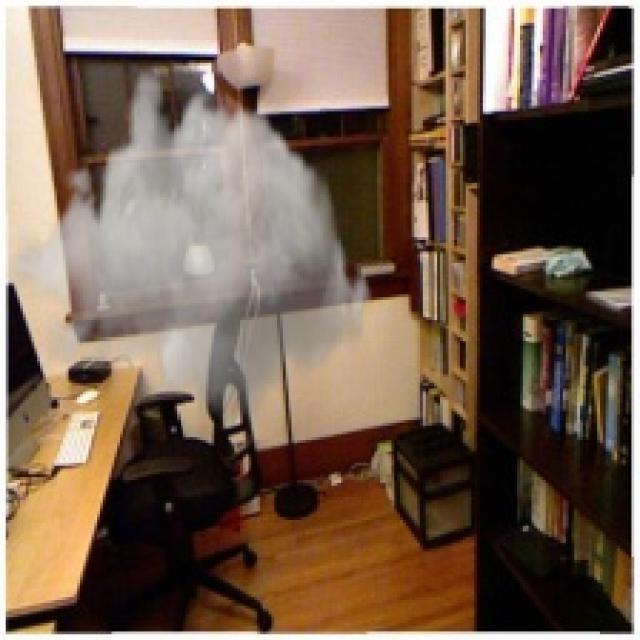Smoke: (8, 62, 374, 432)
